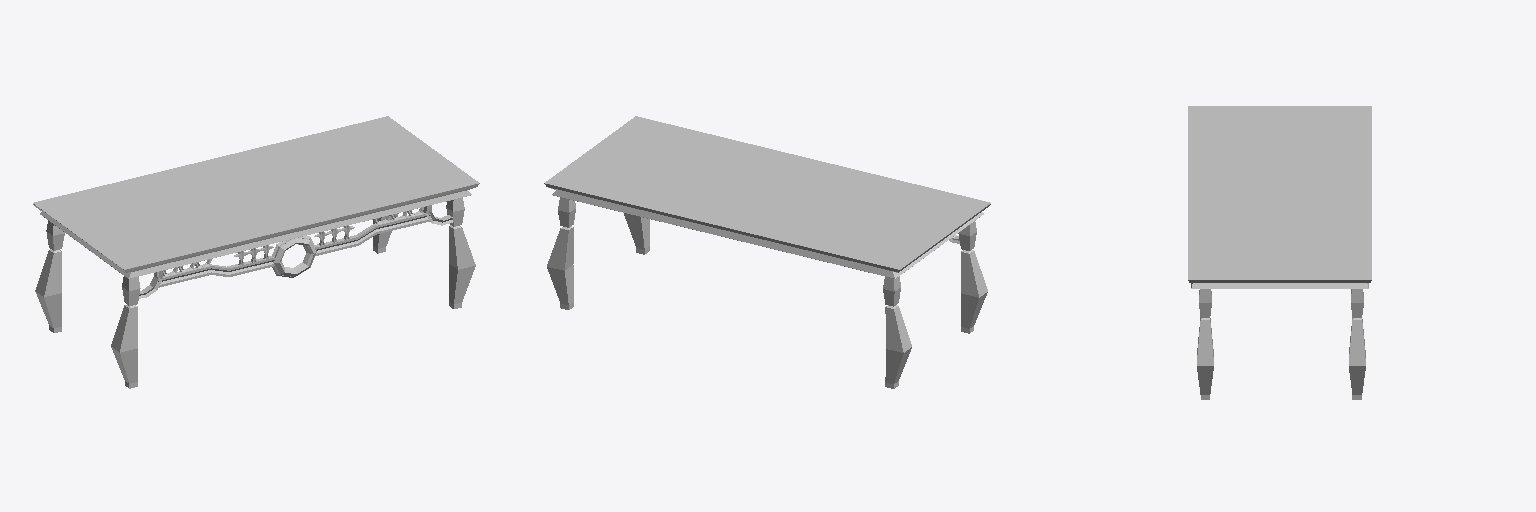
Rendered from table_low_p.obj.
3 views of the same model, side by side, from view 1: azimuth 30°, elevation 25°; view 2: azimuth 150°, elevation 25°; view 3: azimuth 270°, elevation 25° (orthographic).
Visible parts, largest first — view 1: pasted__Table table pasted__pCube1, pasted__pCube2 pasted__Table table, pasted__Table table pasted__pCube6, pasted__Table table pasted__pCube5, table Table pCube37, table pCube6 Table, table pTorus1; view 2: pasted__Table table pasted__pCube1, pasted__Table table pasted__pCube7, pasted__Table table pasted__pCube5, pasted__pCube2 pasted__Table table, pasted__Table table pasted__pCube6; view 3: pasted__Table table pasted__pCube1, pasted__Table table pasted__pCube7, pasted__Table table pasted__pCube6.
Part boxes in pixels (left/top/right/bottom): pasted__Table table pasted__pCube1: left=33, top=116, right=479, bottom=278; pasted__pCube2 pasted__Table table: left=111, top=276, right=140, bottom=388; pasted__Table table pasted__pCube6: left=446, top=198, right=475, bottom=308; pasted__Table table pasted__pCube5: left=35, top=221, right=64, bottom=332; table Table pCube37: left=314, top=212, right=431, bottom=255; table pCube6 Table: left=157, top=256, right=274, bottom=287; table pTorus1: left=272, top=236, right=316, bottom=277; pasted__Table table pasted__pCube1: left=544, top=116, right=990, bottom=278; pasted__Table table pasted__pCube7: left=547, top=197, right=575, bottom=309; pasted__Table table pasted__pCube5: left=883, top=276, right=911, bottom=388; pasted__pCube2 pasted__Table table: left=958, top=221, right=987, bottom=333; pasted__Table table pasted__pCube6: left=624, top=213, right=649, bottom=254; pasted__Table table pasted__pCube1: left=1188, top=106, right=1371, bottom=288; pasted__Table table pasted__pCube7: left=1349, top=289, right=1365, bottom=399; pasted__Table table pasted__pCube6: left=1197, top=289, right=1213, bottom=399.
Size of the model in its own units: 8.17 by 2.76 by 3.64.